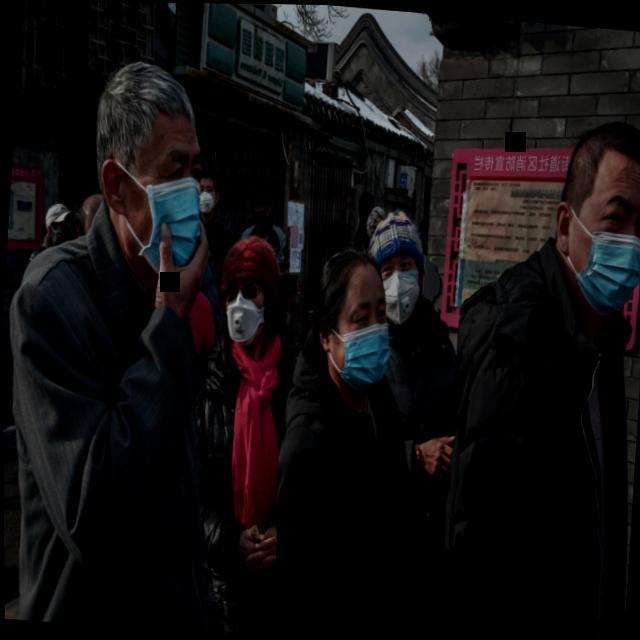Mask: (80, 56, 212, 301), (536, 115, 640, 324), (314, 252, 395, 395), (213, 231, 287, 359), (366, 201, 428, 329), (194, 166, 221, 220)
